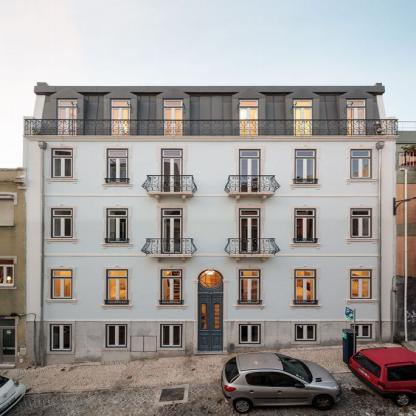Balcony: (24, 120, 398, 136), (141, 175, 198, 193), (224, 175, 281, 193), (140, 238, 198, 254), (223, 238, 281, 254)
Building Outline: (23, 82, 398, 367)
Door: (198, 296, 222, 351), (163, 218, 182, 254), (240, 218, 259, 253), (240, 159, 259, 193), (163, 159, 182, 193), (58, 108, 77, 136), (111, 108, 130, 135), (239, 108, 258, 135), (164, 108, 182, 135), (294, 108, 312, 135), (348, 108, 365, 135)
Facade: (22, 82, 398, 368)
Floor Slab: (24, 136, 396, 138), (42, 254, 378, 256), (42, 194, 378, 196), (43, 319, 195, 322), (228, 319, 379, 322)
Roof: (34, 82, 385, 135)
Sill: (346, 179, 377, 185), (234, 305, 266, 310), (290, 305, 322, 310), (101, 305, 132, 310), (46, 239, 77, 244), (46, 179, 77, 184), (102, 244, 133, 249), (102, 184, 133, 189), (290, 185, 321, 190), (346, 239, 377, 244), (290, 244, 321, 249), (346, 300, 377, 305), (46, 300, 77, 304)
Window: (240, 270, 260, 304), (108, 270, 128, 304), (295, 270, 315, 303), (295, 210, 315, 242), (51, 208, 72, 238), (108, 151, 127, 184), (163, 271, 182, 304), (108, 210, 127, 242), (296, 151, 315, 183), (51, 270, 71, 299), (351, 270, 371, 299), (53, 150, 72, 178), (351, 209, 370, 237), (351, 151, 370, 178), (52, 325, 71, 350), (162, 325, 182, 347), (107, 325, 126, 347), (240, 325, 260, 343), (296, 325, 315, 340), (352, 325, 370, 338), (240, 209, 259, 216), (163, 150, 182, 157), (163, 209, 182, 216), (164, 100, 182, 107), (240, 151, 259, 157), (58, 100, 77, 106), (111, 101, 130, 107), (240, 101, 258, 107), (294, 101, 312, 107), (347, 101, 365, 107)
